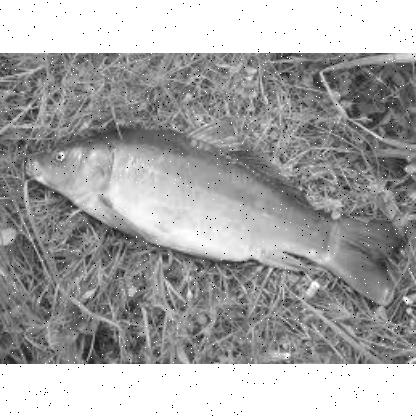ikan-mas: (21, 127, 391, 301)
